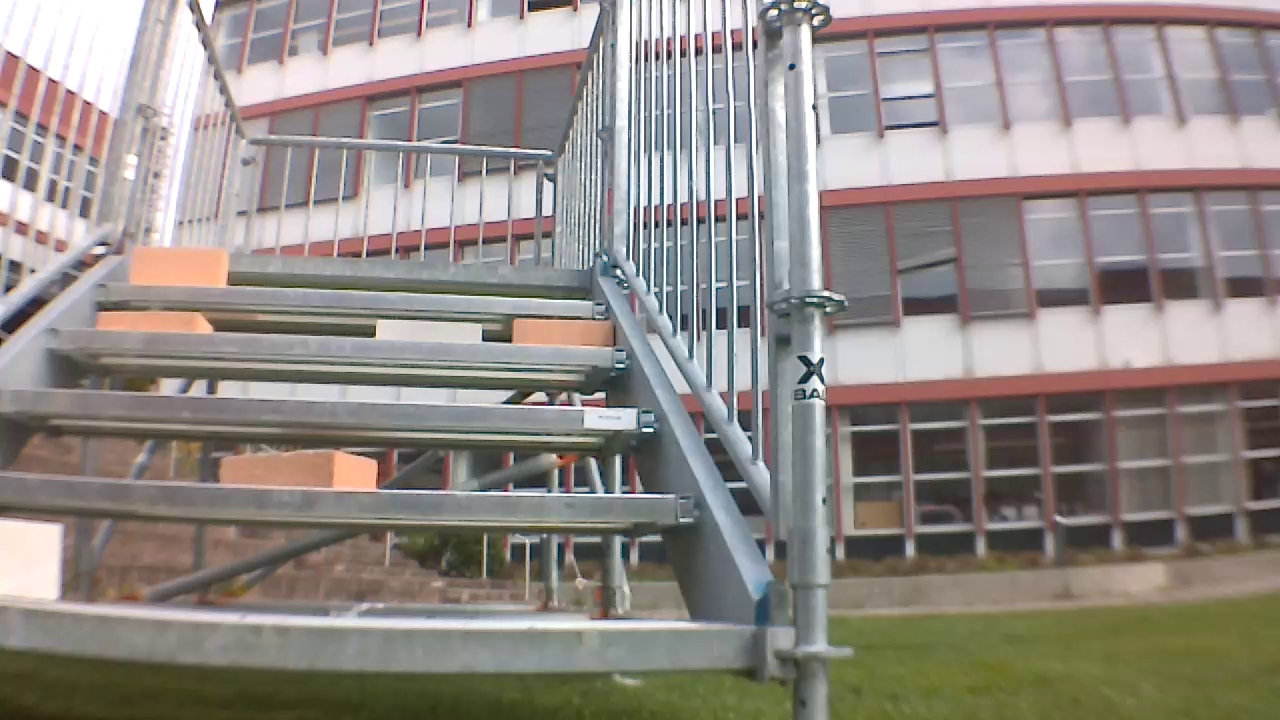brick: (220, 450, 377, 489), (0, 521, 59, 607), (131, 245, 225, 287), (514, 319, 613, 346), (99, 311, 211, 334), (379, 321, 480, 342)
edge: (0, 609, 753, 671), (2, 474, 698, 522), (2, 390, 663, 434), (47, 327, 633, 369), (99, 283, 607, 317), (91, 254, 593, 282)
stairs: (3, 3, 846, 714)
steps: (10, 236, 758, 678)
